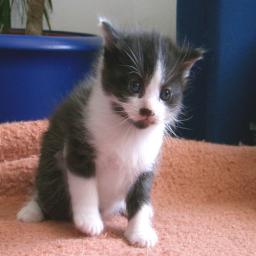catnose: (139, 103, 156, 118)
